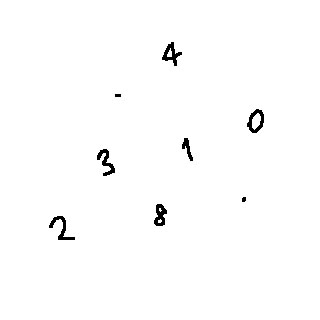.: (108, 87, 130, 108), (236, 190, 250, 208)
0: (238, 98, 272, 144)
1: (171, 132, 207, 175)
2: (39, 208, 93, 249)
3: (90, 141, 123, 191)
4: (158, 28, 189, 78)
8: (148, 198, 173, 241)
